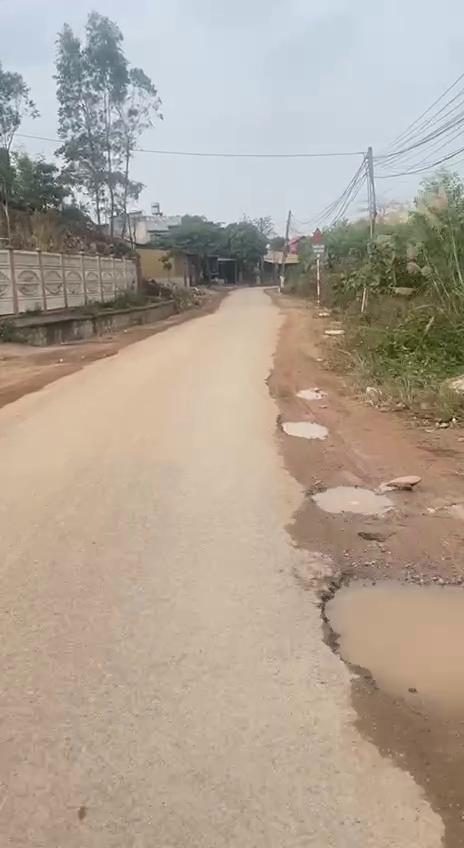pothole: (316, 552, 464, 718), (306, 479, 394, 522), (275, 406, 336, 443)
